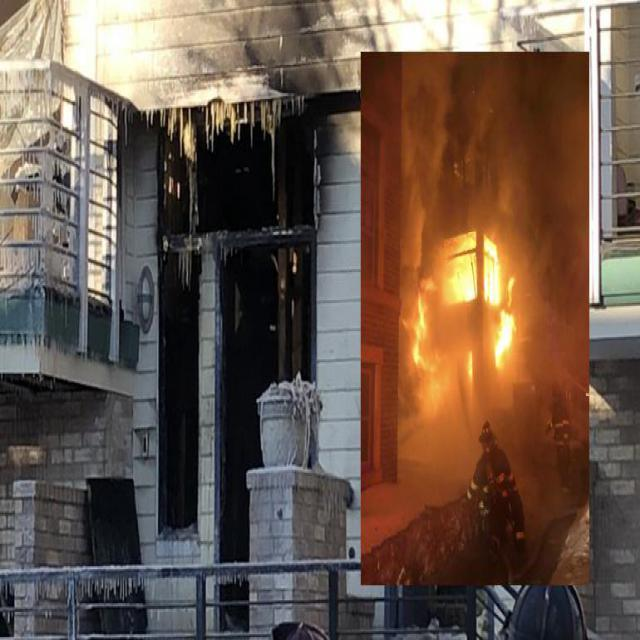Fire: (413, 202, 520, 406)
